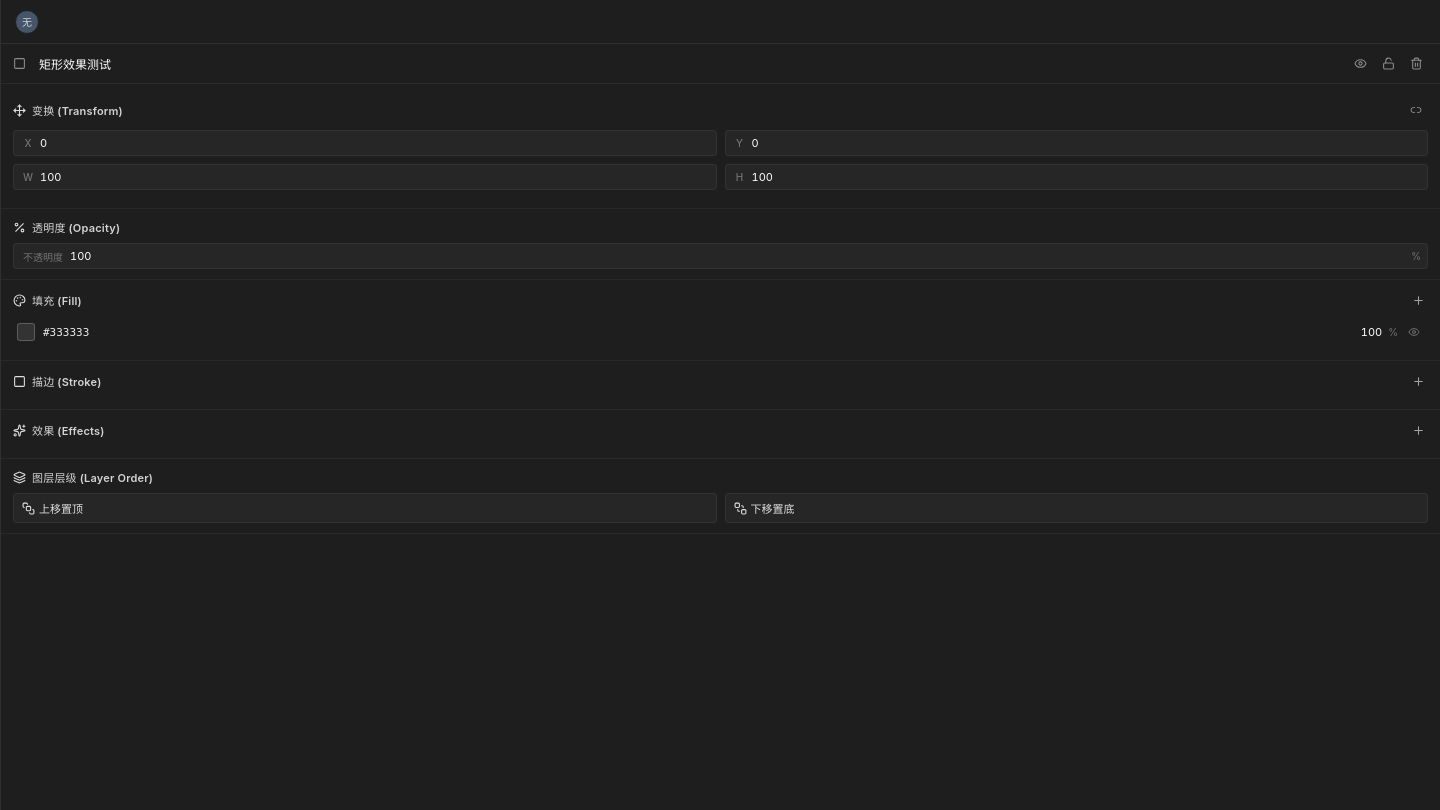
Test case: InspectorPanel › opens Figma 8-effects dropdown menu and adds effects with parameter popover
Later steps or results of the test are not shown.
Click the button named "添加效果": (1418, 430) left=1408, top=420, right=1428, bottom=440
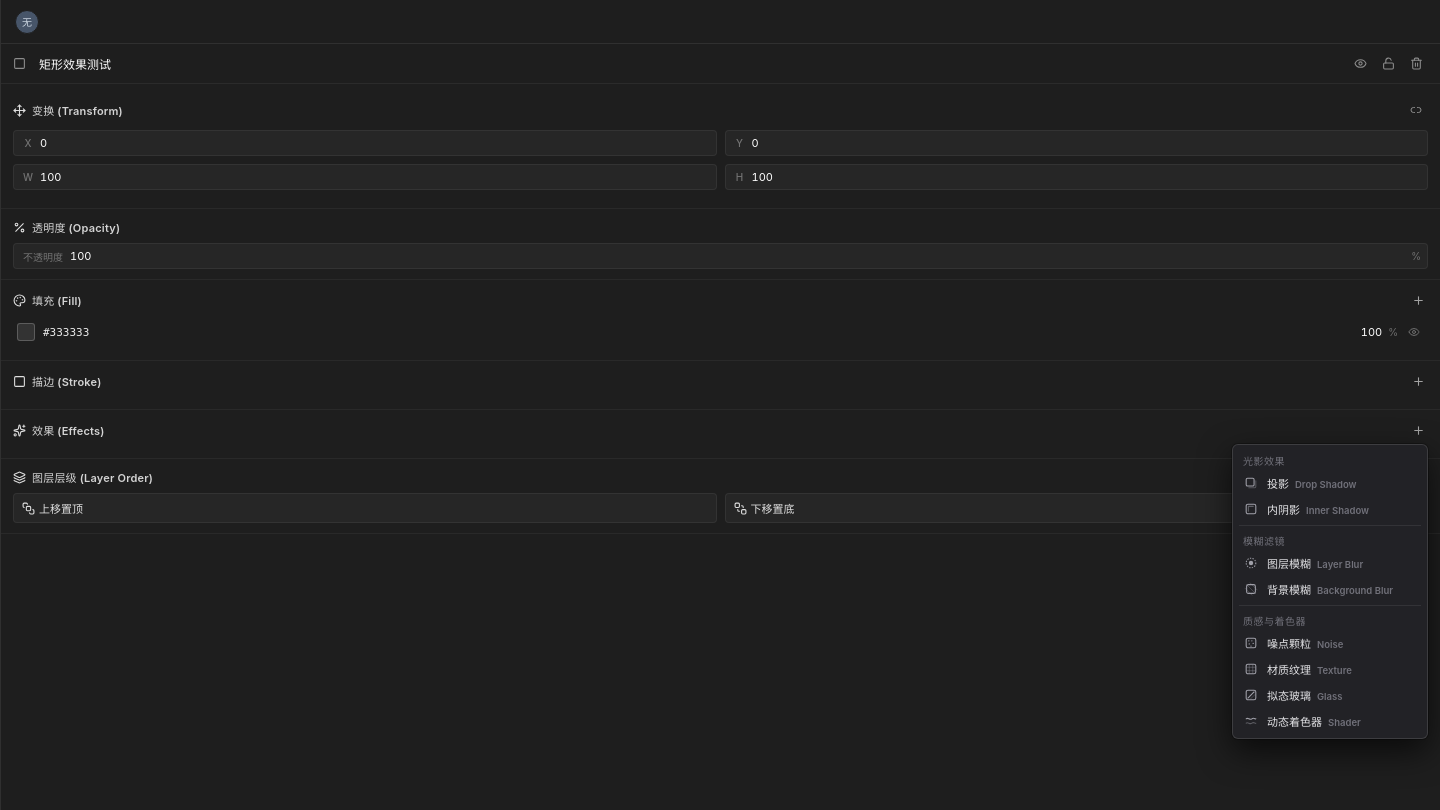
expect the text "内阴影" is shown: met, box left=1267, top=501, right=1300, bottom=517
expect the text "投影" is shown: met, box left=1267, top=475, right=1289, bottom=491
expect the text "图层模糊" is shown: met, box left=1267, top=555, right=1311, bottom=571
